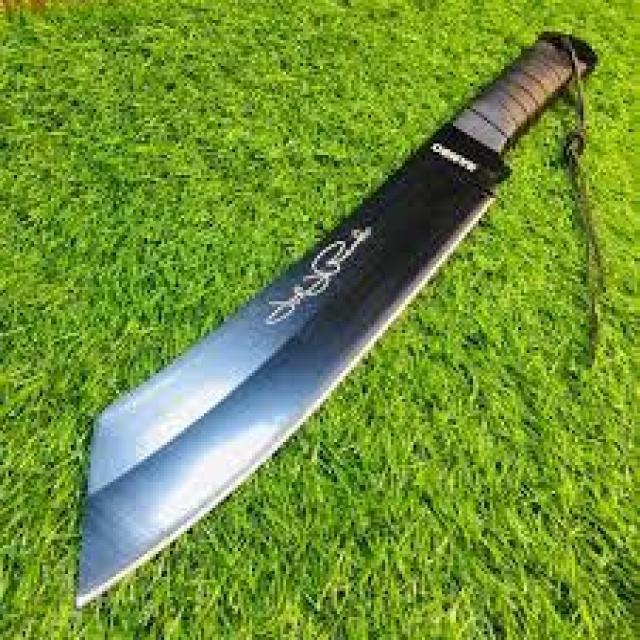eto: (67, 27, 605, 618)
